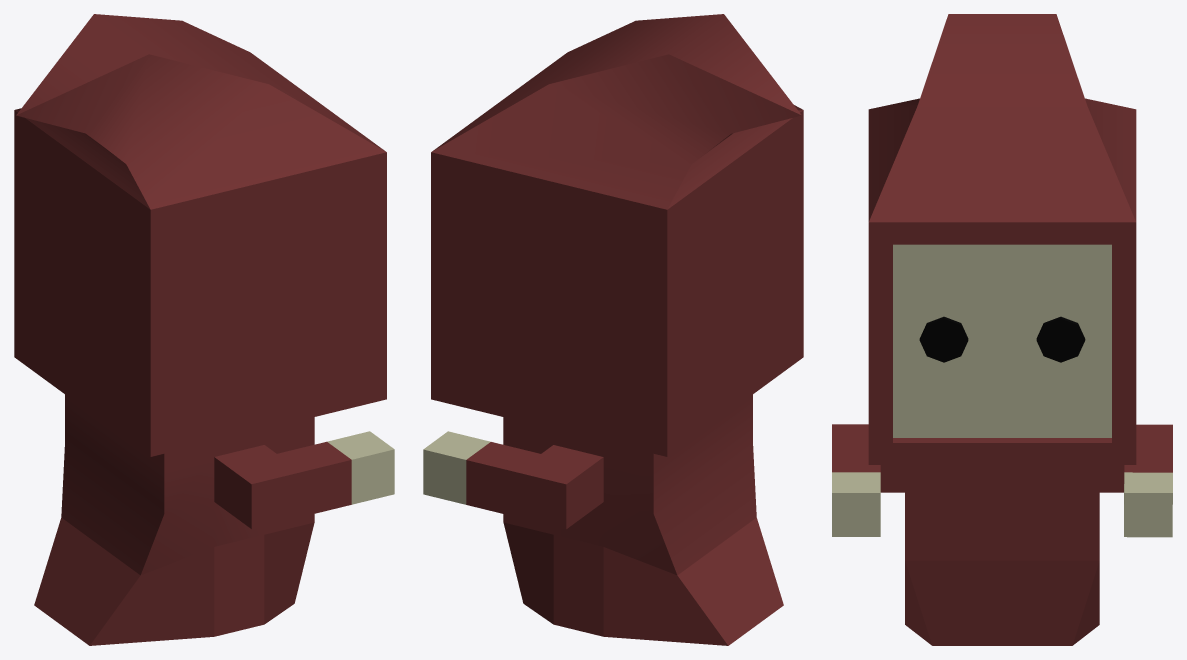
The model's file is mage01.fbx.
The picture shows the model from 3 angles, left to right: view 1: azimuth 30°, elevation 25°; view 2: azimuth 150°, elevation 25°; view 3: azimuth 270°, elevation 25°; orthographic projection.
Parts seen in each view (by area): view 1: hoodie, body; view 2: hoodie, body; view 3: body, hoodie, eye_right, eye_left.
Part boxes in pixels (<box>): hoodie: <box>14,14,386,456</box>; body: <box>34,394,394,645</box>; hoodie: <box>431,14,803,456</box>; body: <box>423,394,783,645</box>; body: <box>832,244,1172,645</box>; hoodie: <box>868,14,1136,464</box>; eye_right: <box>1036,316,1085,362</box>; eye_left: <box>919,316,968,362</box>.
Bounding box in the file's own units: 70.46 × 128 × 70.01.
